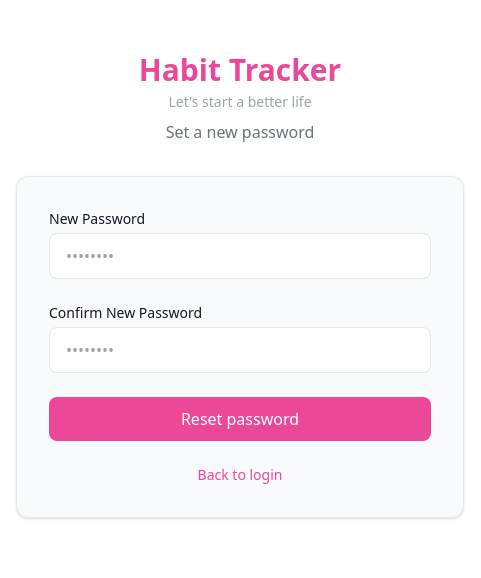
Scenario: ResetPasswordPage › shows invalid/expired-link message on INVALID_RESET_TOKEN
The image size is (481, 578).
Type "StrongPass1" into the password field labelled "New Password" at point(240, 256), box x1=49 y1=233 x2=431 y2=279
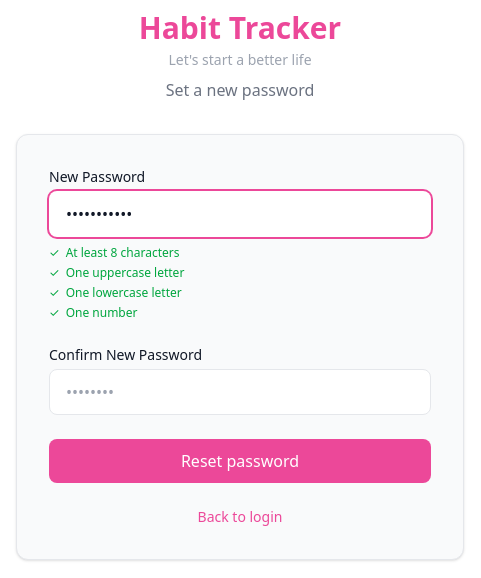
Type "StrongPass1" into the password field labelled "Confirm New Password" at point(240, 392), box x1=49 y1=369 x2=431 y2=415
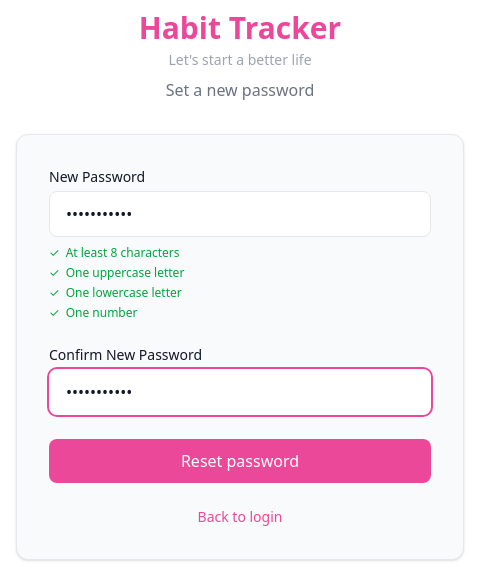
Click the button "Reset password" at point(240, 461), box x1=49 y1=439 x2=431 y2=483
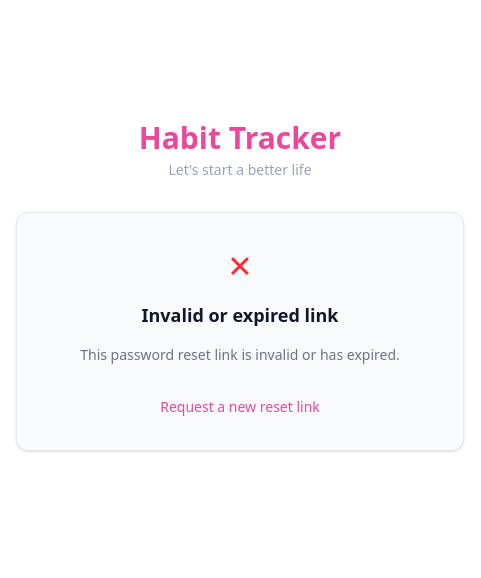
Now the text "This password reset link is invalid or has expired." is shown, box x1=80 y1=344 x2=400 y2=364
